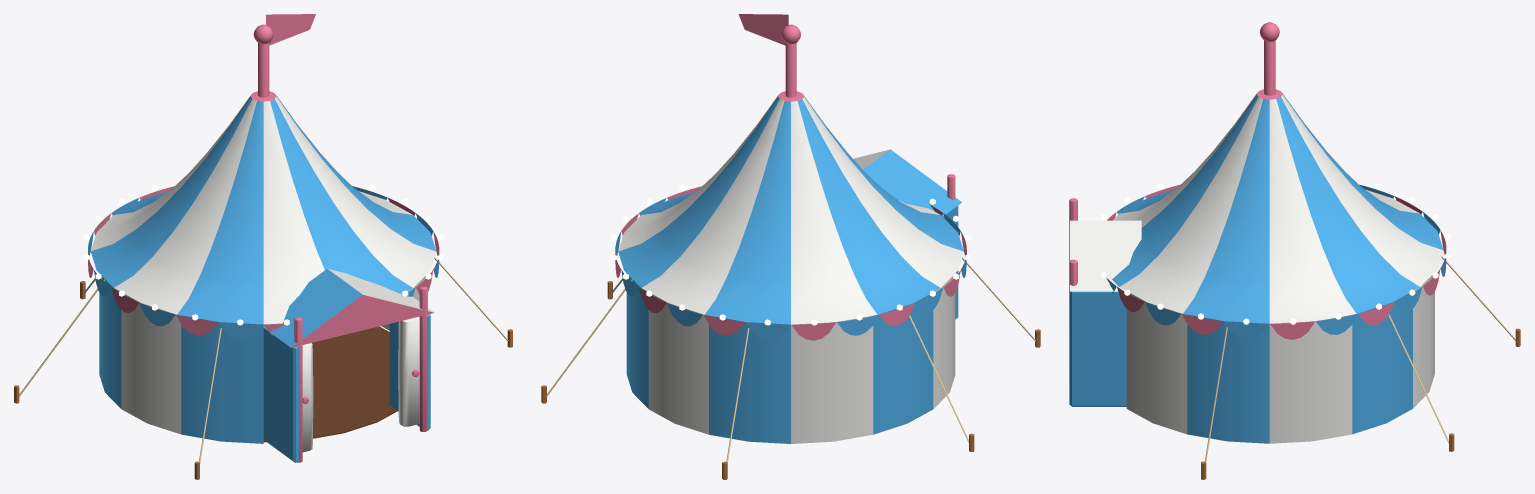
The model's file is tenda_circo_pequena.glb.
3 renders of one model, left to right at view 1: azimuth 30°, elevation 25°; view 2: azimuth 150°, elevation 25°; view 3: azimuth 270°, elevation 25°, orthographic.
Visible parts, largest first — view 1: tenda_circo_pequena, bandeira; view 2: tenda_circo_pequena, bandeira; view 3: tenda_circo_pequena.
Part boxes in pixels (<box>): tenda_circo_pequena: <box>14,24,512,479</box>; bandeira: <box>266,14,315,45</box>; tenda_circo_pequena: <box>541,24,1040,479</box>; bandeira: <box>738,14,788,45</box>; tenda_circo_pequena: <box>1069,22,1520,479</box>.
Size of the model in its own units: 6.98 by 5.55 by 6.29.
2 materials, 1 textured.
